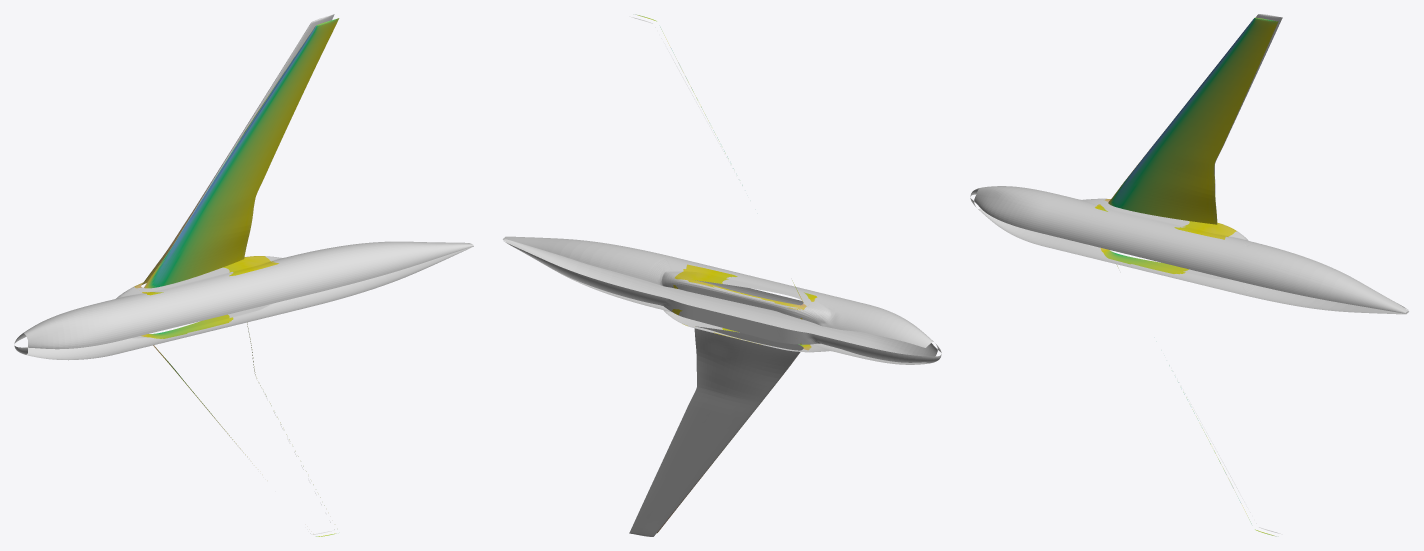
The model's file is mdo.glb.
3 renders of one model, left to right at view 1: azimuth 30°, elevation 25°; view 2: azimuth 150°, elevation 25°; view 3: azimuth 330°, elevation 25°, orthographic.
Parts seen in each view (by area): view 1: part_0_0, part_1_0; view 2: part_0_0, part_1_0; view 3: part_0_0, part_1_0.
Part boxes in pixels (<box>): part_0_0: <box>14,14,473,534</box>; part_1_0: <box>134,18,339,536</box>; part_0_0: <box>503,17,941,536</box>; part_1_0: <box>635,14,817,532</box>; part_0_0: <box>970,14,1408,533</box>; part_1_0: <box>1095,17,1278,536</box>.
Size of the model in its own units: 70.38 by 77.8 by 8.95.
